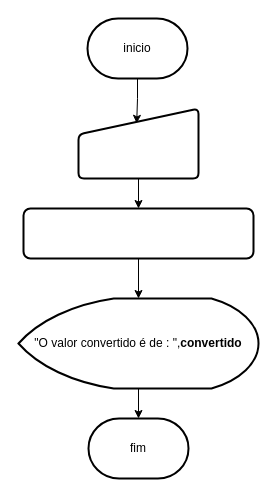
This 276x496 diagram has some shape labels left out. Each missing label, with the centre of its shape:
"convertido = valor_reais / valor_dolar" goes at point 138,233.
"valor_dolar, valor_reais" goes at point 138,143.
